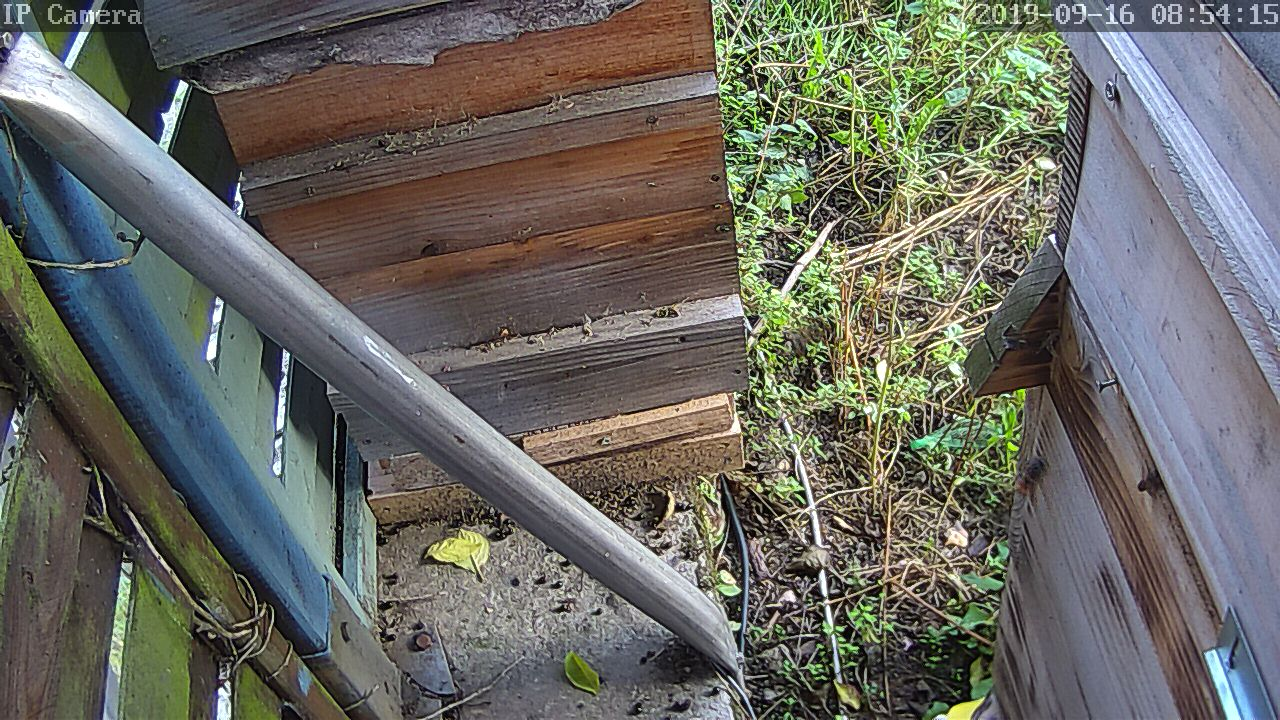bee: (1140, 458, 1176, 500)
hornet: (1002, 449, 1057, 505)
